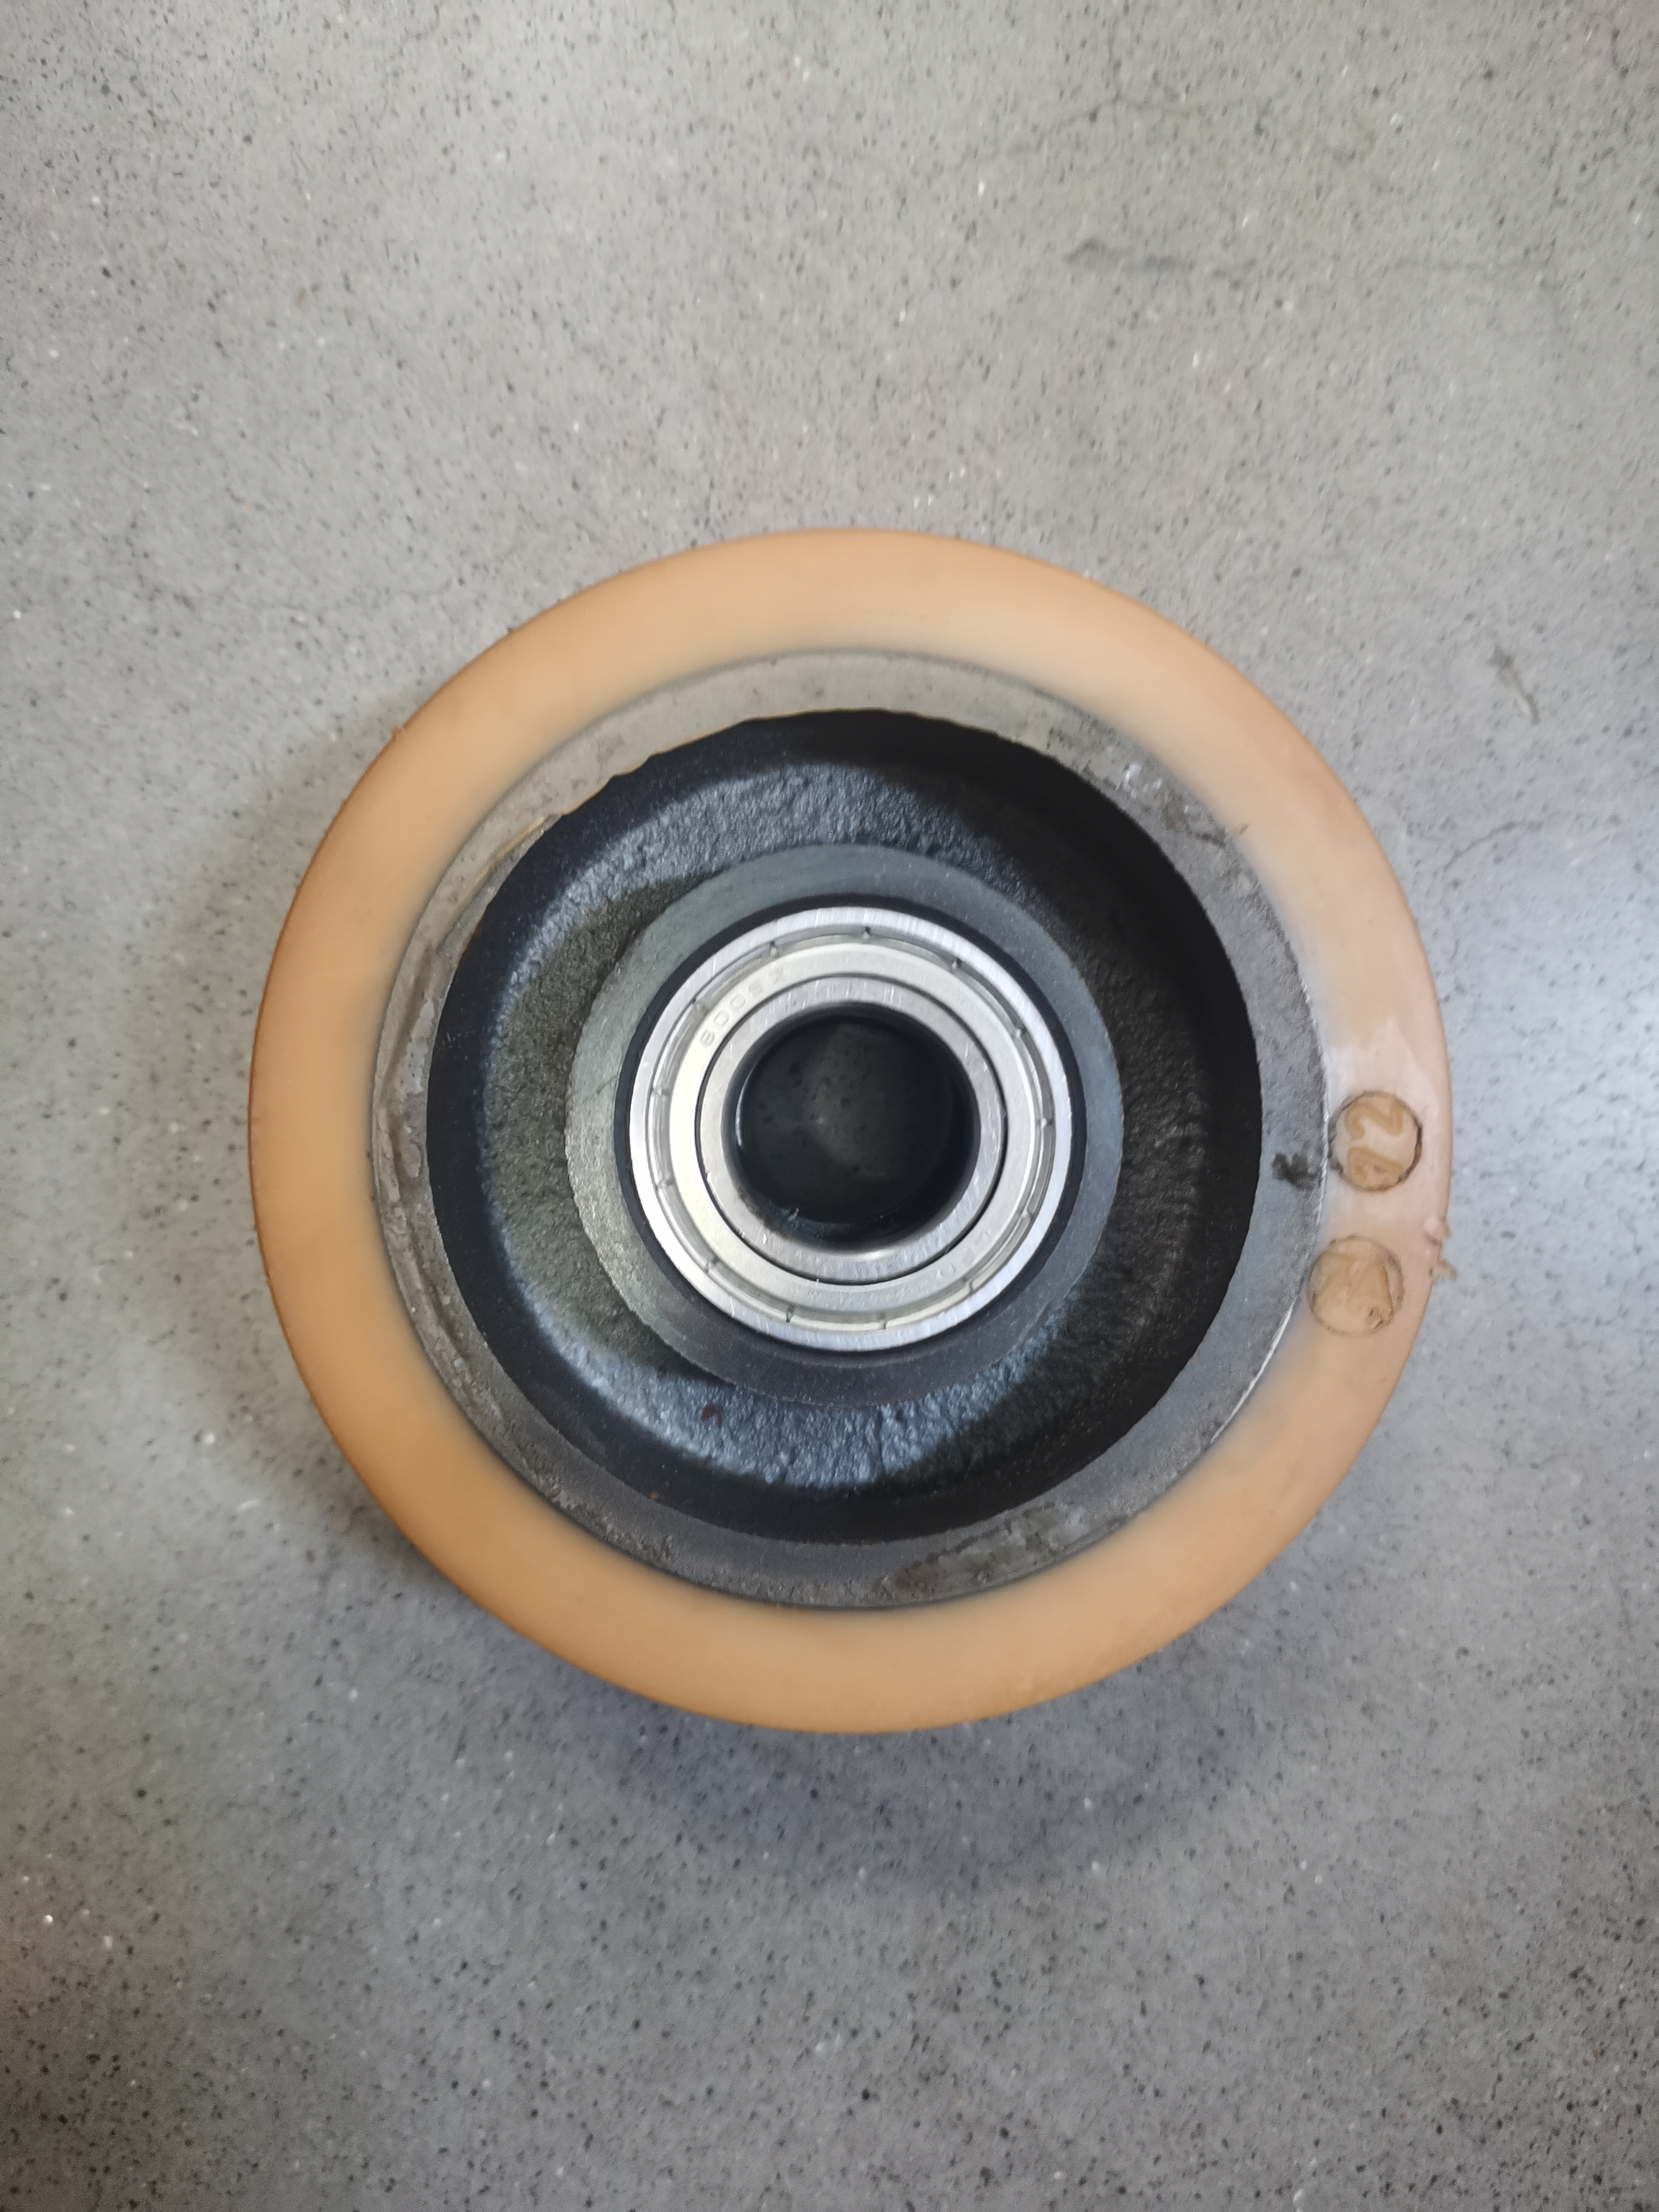good_wheel: (225, 507, 1499, 1775)
